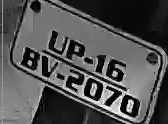0: (120, 92, 141, 119), (86, 75, 102, 104)
1: (93, 51, 107, 75)
2: (65, 67, 84, 94)
6: (106, 56, 127, 82)
7: (104, 86, 120, 111)
B: (20, 42, 40, 72)
P: (67, 37, 84, 64)
U: (48, 27, 67, 58)
V: (40, 54, 58, 79)
